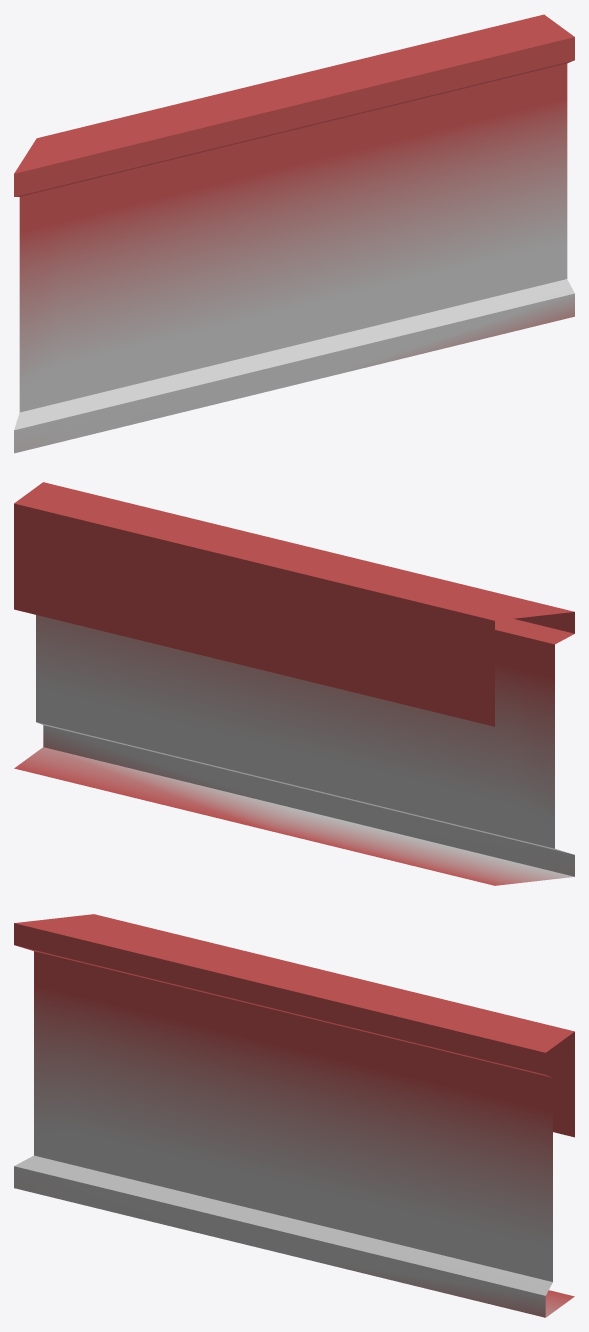
The model's file is Cornice_Metal_L.gltf.
3 views of the same model, one above another, from view 1: azimuth 30°, elevation 25°; view 2: azimuth 150°, elevation 25°; view 3: azimuth 330°, elevation 25° (orthographic). The views are drawn at different scales.
Visible parts, largest first — view 1: Cornice_Metal_L; view 2: Cornice_Metal_L; view 3: Cornice_Metal_L.
Boxes of the visible parts, <box> form: Cornice_Metal_L: <box>14,14,574,453</box>; Cornice_Metal_L: <box>14,482,574,885</box>; Cornice_Metal_L: <box>14,914,574,1317</box>.
Size of what is drawn, in the model's own units: 2.1 by 1 by 0.2.
